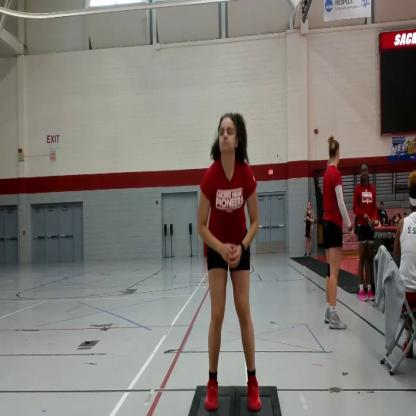lateral_flexion_left: (195, 106, 265, 416)
stance_width_normal: (194, 153, 265, 416)
